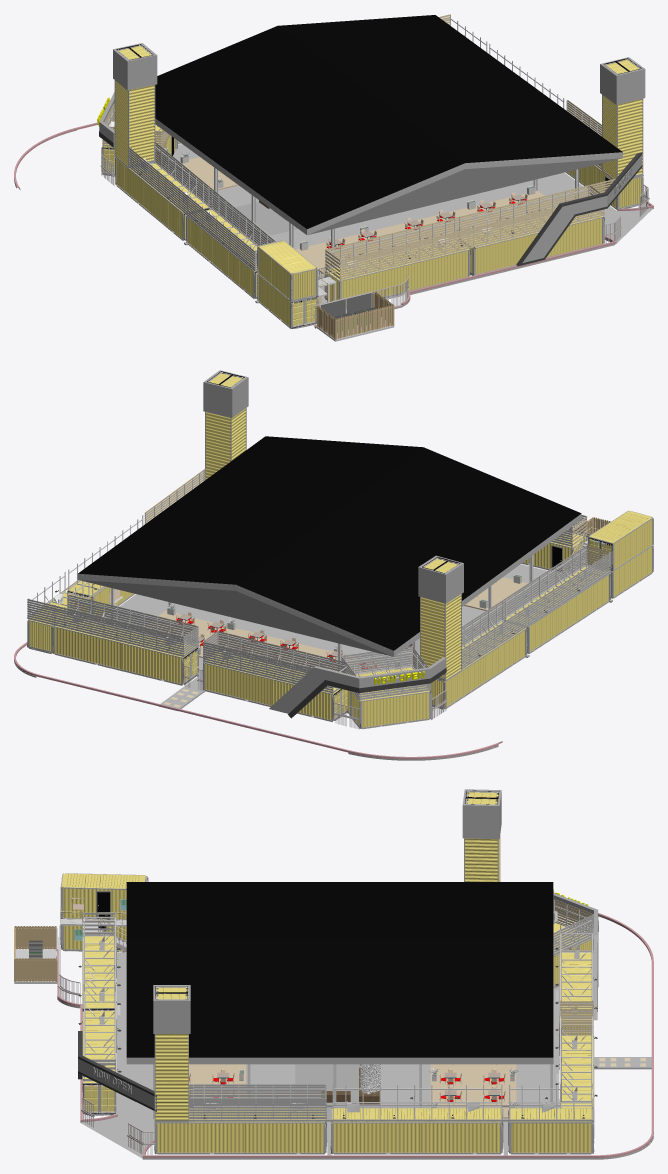
The model's file is container-food-court.glb.
The picture shows the model from 3 angles, top to bottom: view 1: azimuth 30°, elevation 25°; view 2: azimuth 150°, elevation 25°; view 3: azimuth 270°, elevation 25°; orthographic projection. The views are drawn at different scales.
Visible parts, largest first — view 1: arch-26, arch-32, arch-3, arch-24, arch-29, arch-1, arch-27, str-55, arch-19, site-54, arch-40, arch-23 (+3 smaller); view 2: arch-26, arch-32, arch-3, arch-1, str-55, arch-27, arch-29, arch-19, arch-0, arch-24, arch-40, arch-23; view 3: arch-26, arch-32, arch-3, arch-29, str-55, arch-1, arch-19, arch-0, arch-24, site-54, arch-40, arch-8 (+5 smaller).
Part boxes in pixels (left/top/right/bottom): arch-26: left=102, top=15, right=641, bottom=327; arch-32: left=102, top=45, right=642, bottom=326; arch-3: left=101, top=43, right=643, bottom=328; arch-24: left=102, top=14, right=615, bottom=279; arch-29: left=167, top=144, right=653, bottom=327; arch-1: left=14, top=43, right=645, bottom=262; arch-27: left=308, top=158, right=621, bottom=234; str-55: left=103, top=14, right=602, bottom=281; arch-19: left=176, top=157, right=557, bottom=274; site-54: left=316, top=291, right=394, bottom=339; arch-40: left=100, top=155, right=649, bottom=325; arch-23: left=99, top=131, right=642, bottom=266; arch-26: left=68, top=371, right=612, bottom=719; arch-32: left=29, top=373, right=652, bottom=727; arch-3: left=27, top=370, right=653, bottom=729; arch-1: left=203, top=370, right=498, bottom=760; str-55: left=28, top=470, right=609, bottom=700; arch-27: left=78, top=579, right=392, bottom=656; arch-29: left=14, top=564, right=612, bottom=718; arch-19: left=144, top=577, right=528, bottom=674; arch-0: left=14, top=642, right=502, bottom=759; arch-24: left=30, top=469, right=610, bottom=696; arch-40: left=183, top=535, right=589, bottom=729; arch-23: left=288, top=667, right=446, bottom=718; arch-26: left=83, top=790, right=553, bottom=1123; arch-32: left=61, top=792, right=593, bottom=1152; arch-3: left=60, top=790, right=594, bottom=1154; arch-29: left=57, top=952, right=653, bottom=1159; str-55: left=83, top=900, right=593, bottom=1122; arch-1: left=78, top=789, right=620, bottom=1118; arch-19: left=189, top=1064, right=516, bottom=1118; arch-0: left=57, top=913, right=653, bottom=1157; arch-24: left=82, top=899, right=593, bottom=1119; site-54: left=14, top=926, right=57, bottom=981; arch-40: left=58, top=925, right=593, bottom=1154; arch-8: left=71, top=897, right=559, bottom=1121.
Size of the model in its own units: 0.8544 by 0.2505 by 0.9088.
